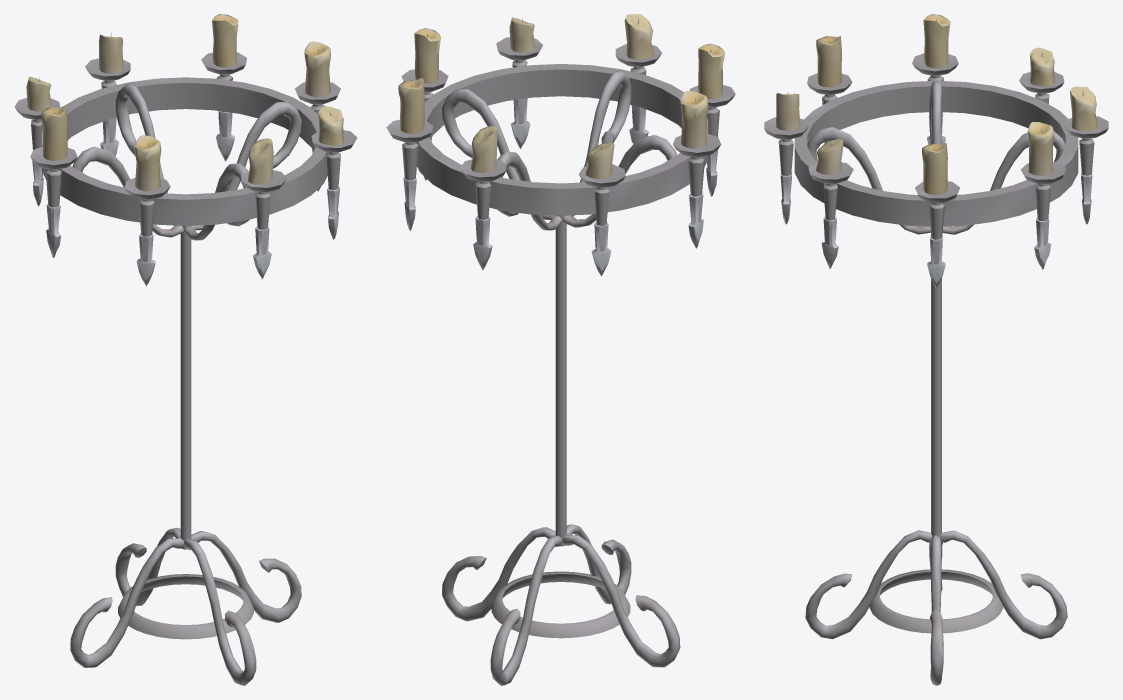
Rendered from CandleStick_Stand.glb.
3 views of the same model, side by side, from view 1: azimuth 30°, elevation 25°; view 2: azimuth 150°, elevation 25°; view 3: azimuth 270°, elevation 25° (orthographic). The views are drawn at different scales.
Parts seen in each view (by area): view 1: CandleStick_Stand_9026ef, CandleStick_Stand_284c1a; view 2: CandleStick_Stand_9026ef, CandleStick_Stand_284c1a; view 3: CandleStick_Stand_9026ef, CandleStick_Stand_284c1a.
Boxes of the visible parts, box(x1,y1,x2,y2) form: CandleStick_Stand_9026ef: box(14, 52, 357, 685); CandleStick_Stand_284c1a: box(26, 14, 344, 286); CandleStick_Stand_9026ef: box(386, 37, 735, 685); CandleStick_Stand_284c1a: box(398, 14, 724, 276); CandleStick_Stand_9026ef: box(764, 53, 1108, 685); CandleStick_Stand_284c1a: box(776, 14, 1097, 288).
Bounding box in the file's own units: 0.7323 × 1.31 × 0.7313.
